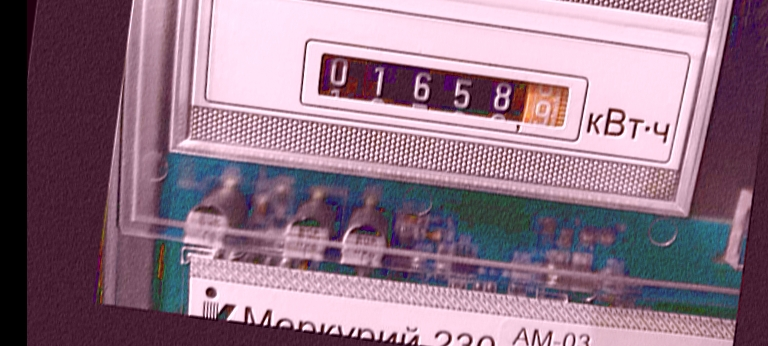0: (329, 56, 353, 88)
1: (371, 64, 392, 98)
5: (452, 77, 477, 110)
6: (413, 69, 437, 104)
8: (493, 79, 517, 113)
9: (532, 98, 556, 129)
screen: (290, 29, 598, 150)
